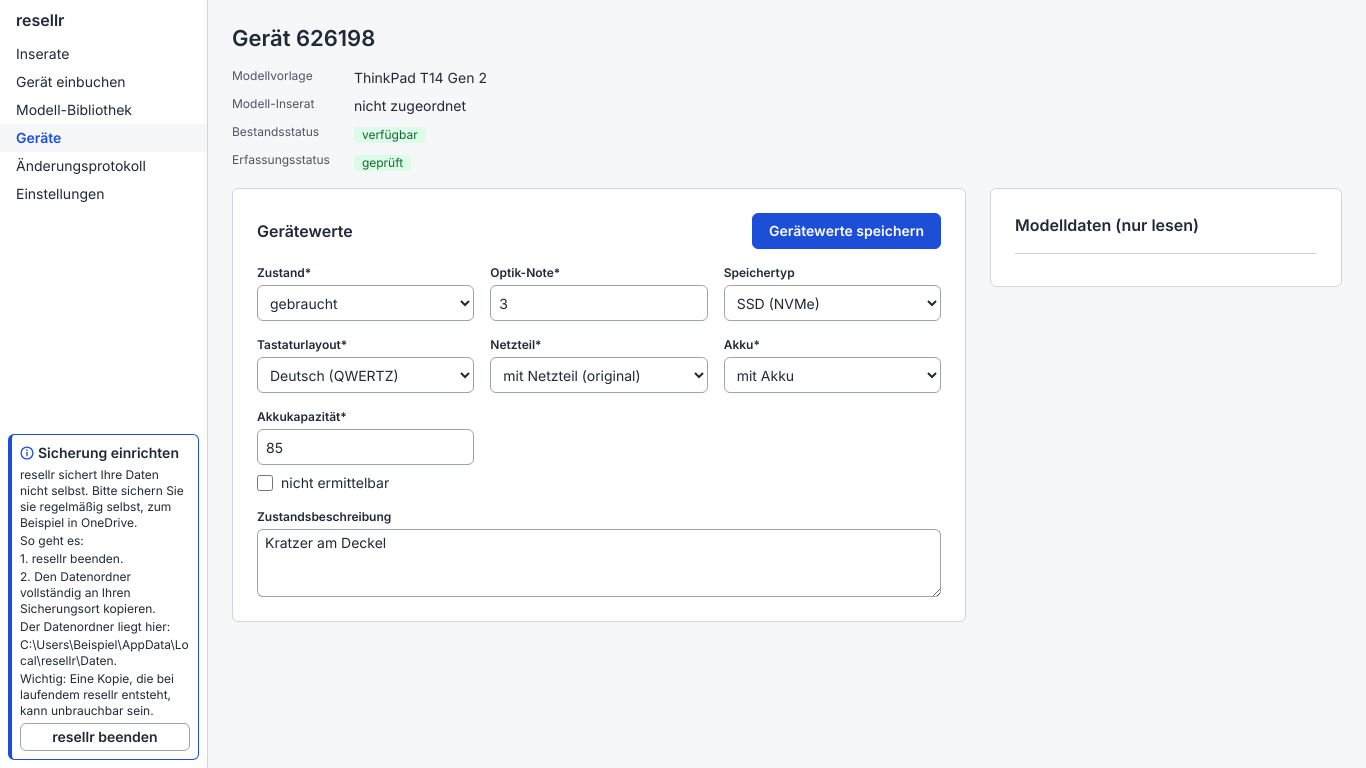
Scenario: UI-010 Gerätewerte (CU-137, Story #56) › UI-010.disabled DER-56-02 a device sold meanwhile is reported with device_not_available and becomes read only
Expected: the form named "Gerätewerte" is shown, x1=257 y1=265 x2=941 y2=597
Replace the text in the field labelled "Optik-Note*" with "4" at (599, 303), box x1=490 y1=285 x2=708 y2=321
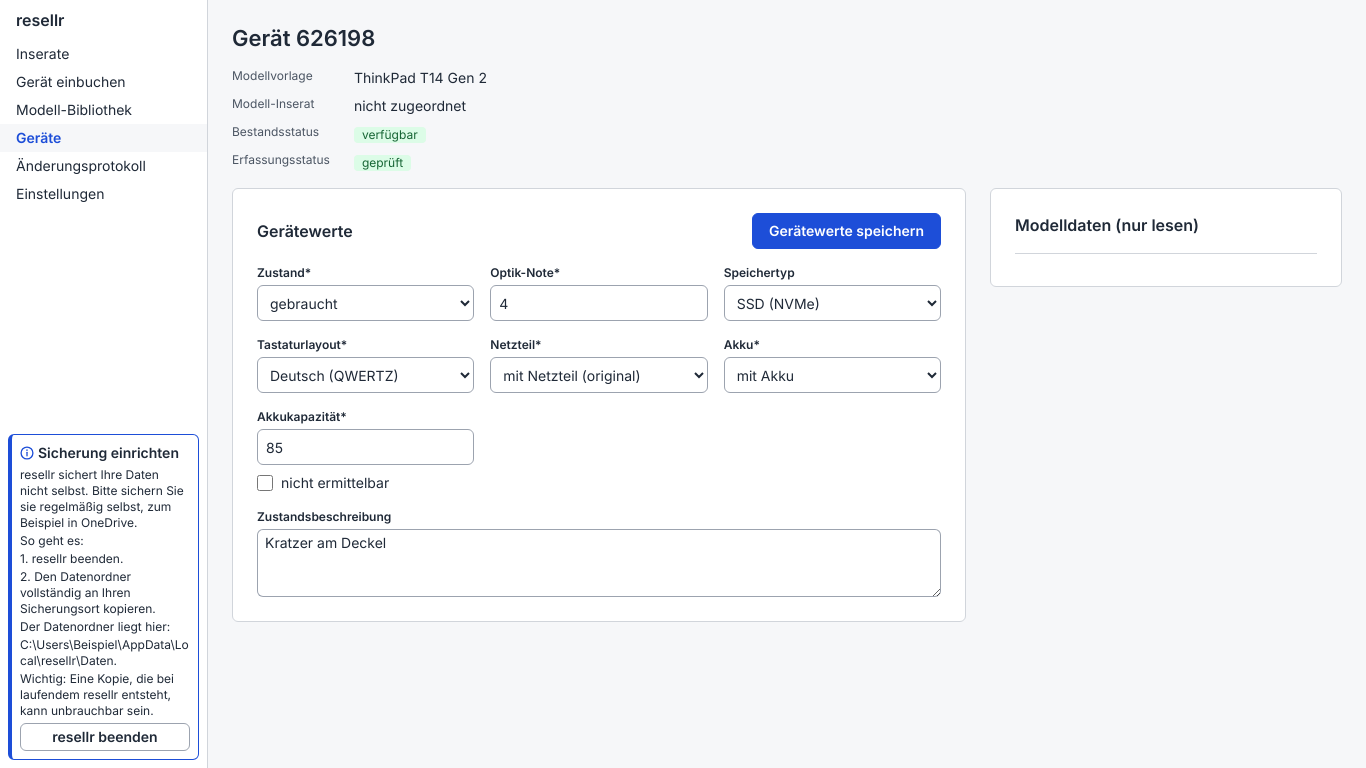
Click the button "Gerätewerte speichern" at (846, 231), box x1=752 y1=213 x2=941 y2=249
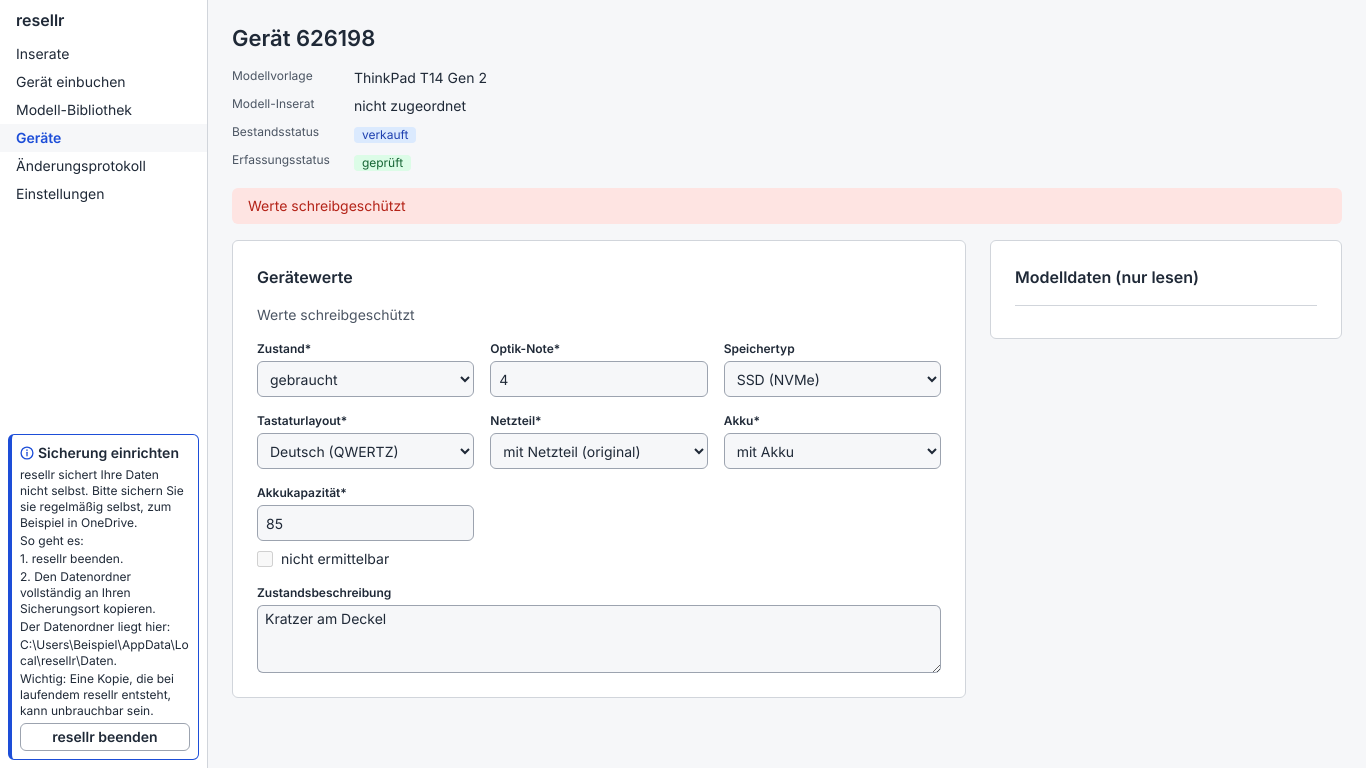
Expected: the message reads "Werte schreibgeschützt", x1=248 y1=197 x2=406 y2=214
Expected: the button "Gerätewerte speichern" is gone
